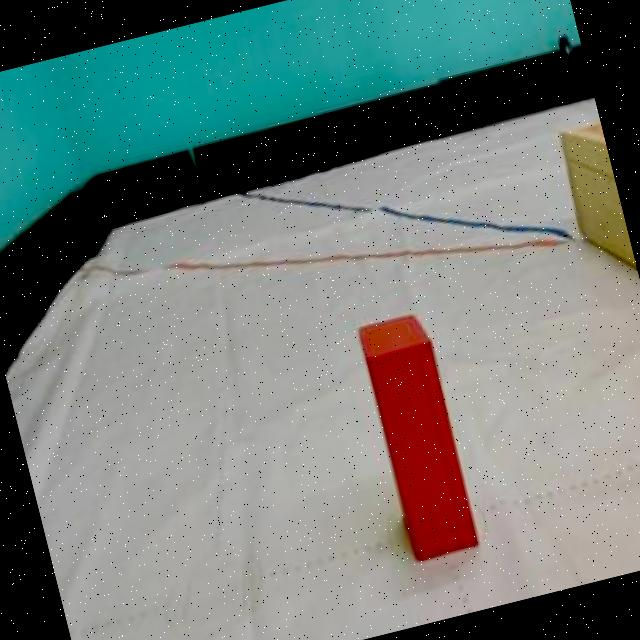redbox: (356, 308, 481, 560)
